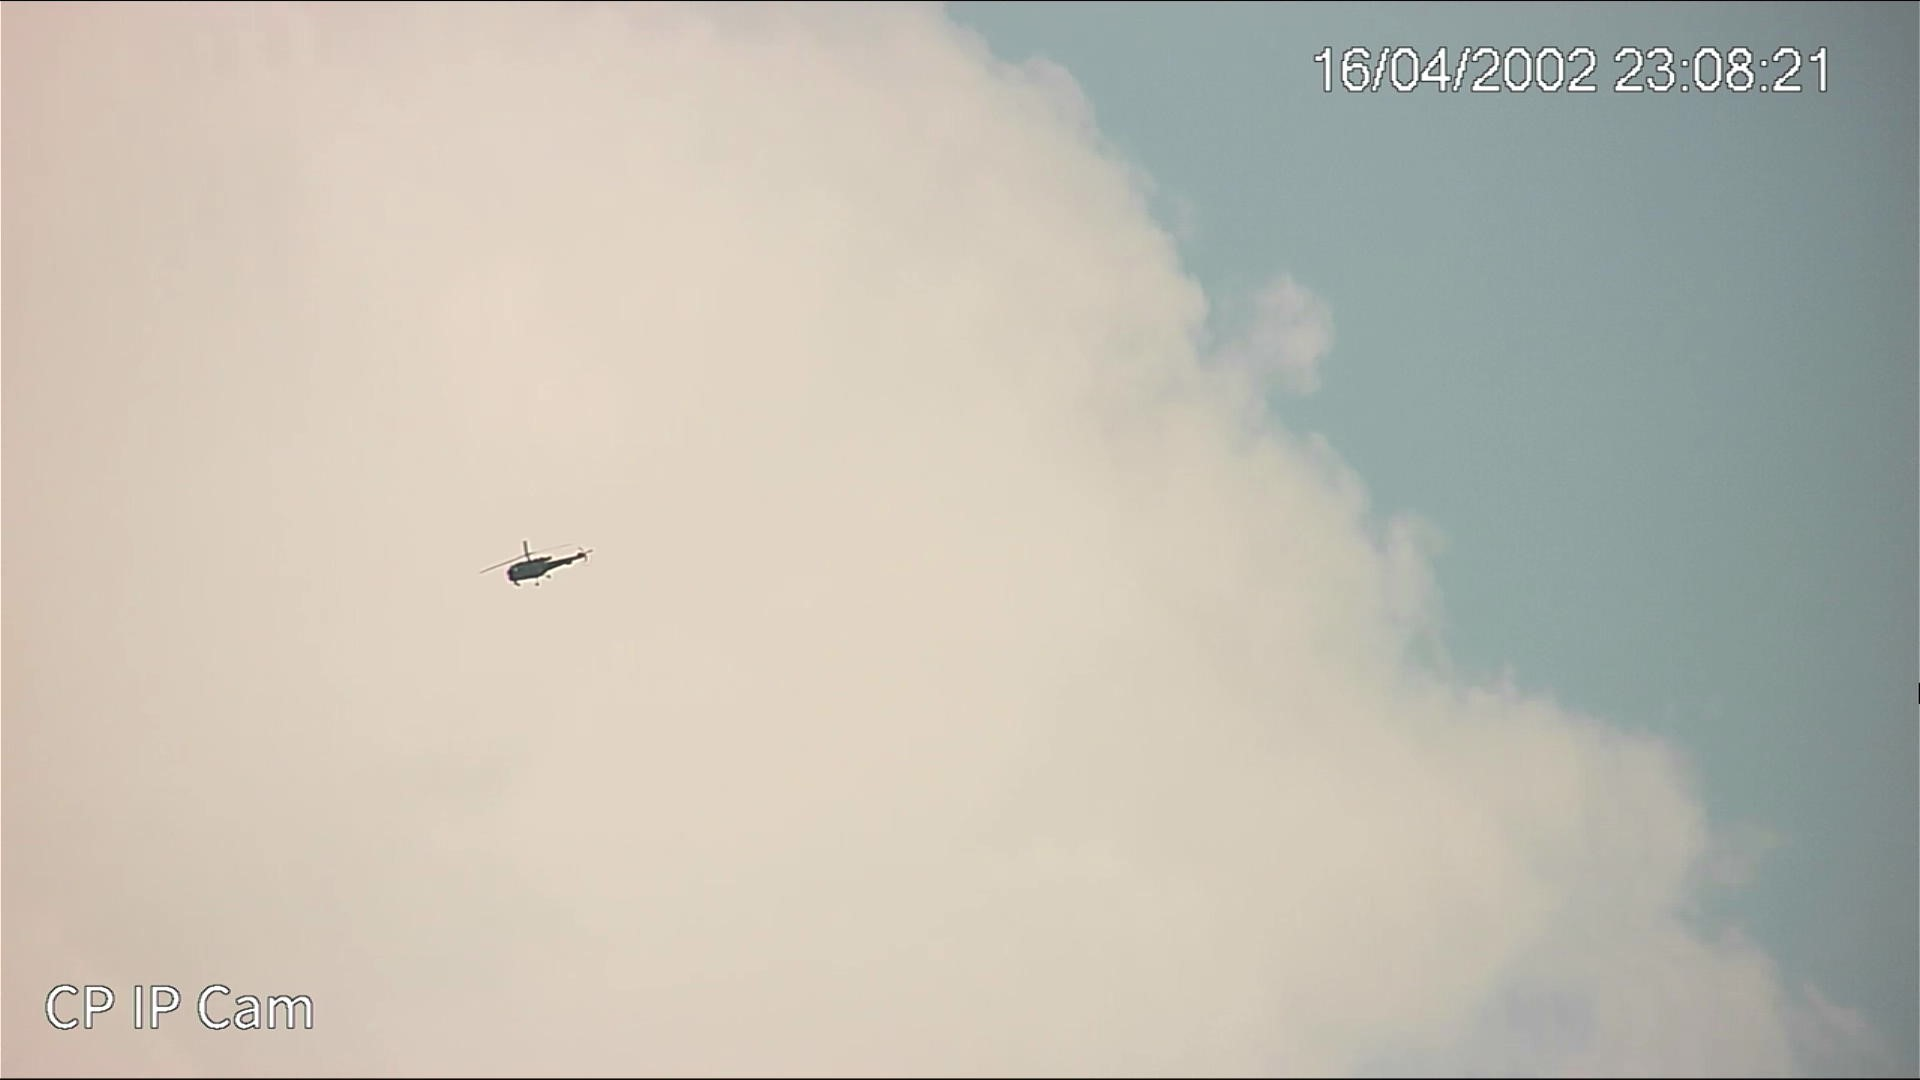SU_30: (481, 537, 593, 585)
